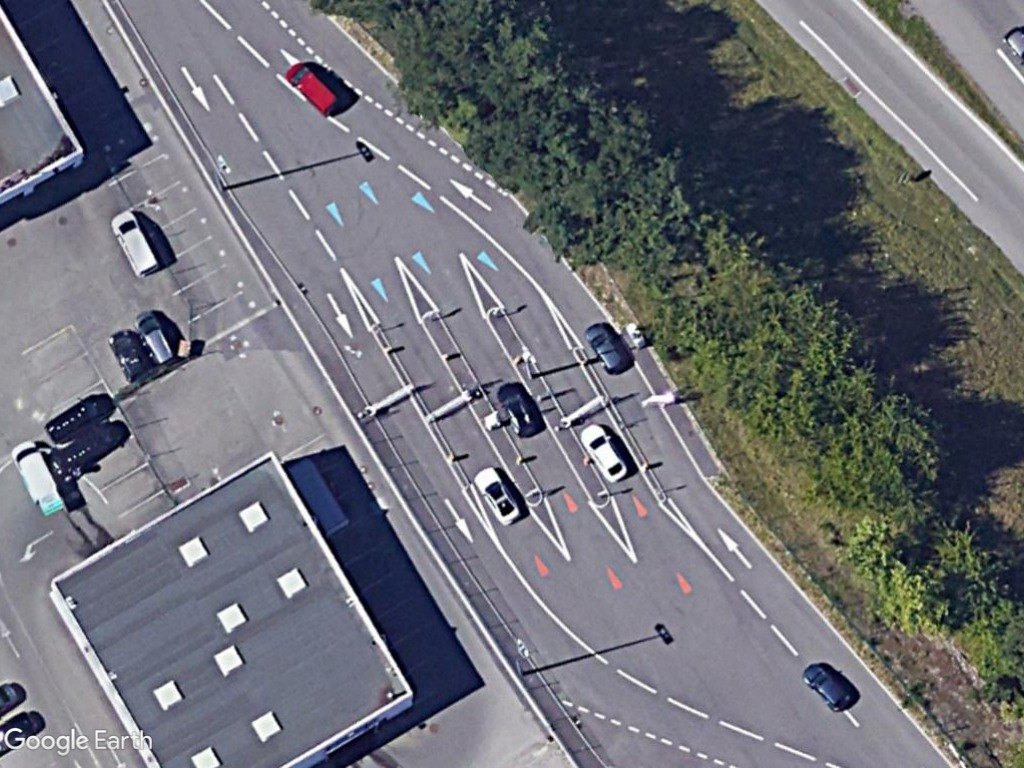car: (575, 421, 628, 484), (469, 464, 521, 527), (799, 660, 855, 714), (492, 381, 540, 440), (581, 319, 629, 376), (133, 310, 177, 372)
van: (110, 210, 163, 279), (8, 440, 62, 507), (282, 60, 344, 118)
